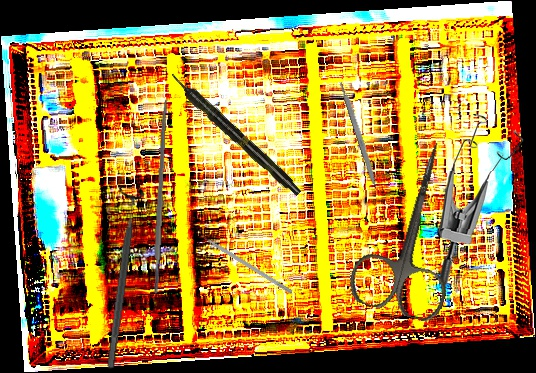Chopper: (194, 225, 297, 295)
Fixation Ring: (96, 185, 147, 371)
Handpiece: (166, 69, 305, 199)
Iris Scissors: (343, 130, 486, 325)
Scalpel Handle: (338, 79, 380, 190), (150, 98, 170, 296)
Speculum: (435, 113, 525, 287)
